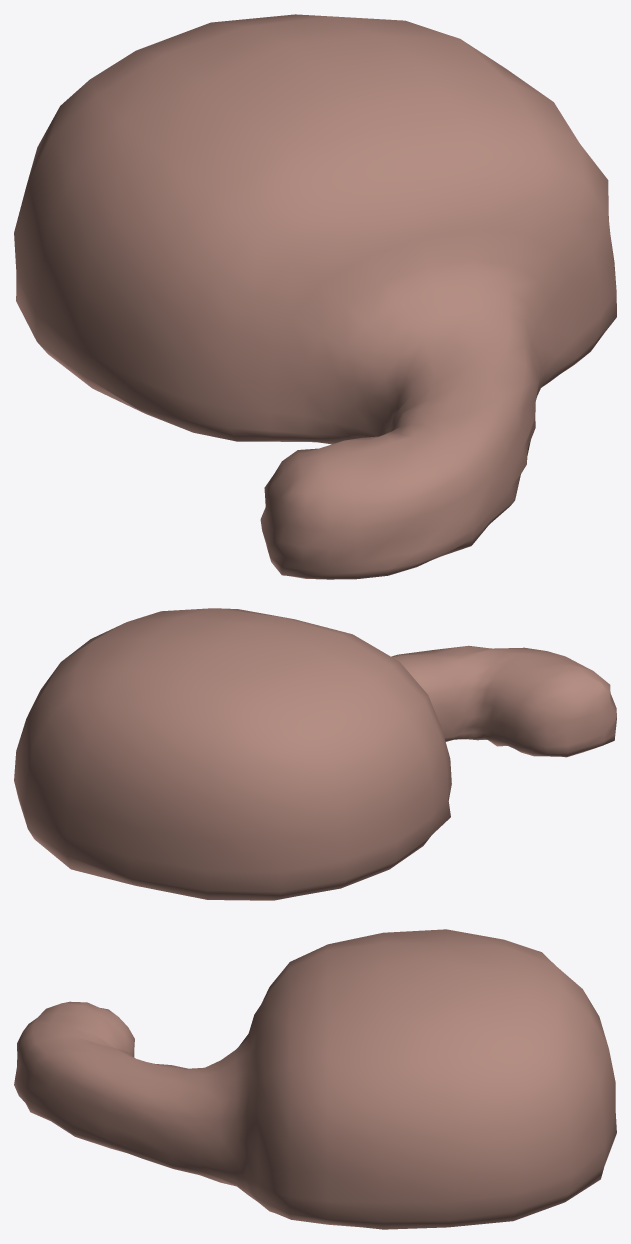
File: Cave.fbx
The picture shows the model from 3 angles, top to bottom: view 1: azimuth 30°, elevation 25°; view 2: azimuth 150°, elevation 25°; view 3: azimuth 270°, elevation 25°; orthographic projection. The views are drawn at different scales.
Parts seen in each view (by area): view 1: Cave; view 2: Cave; view 3: Cave.
Part boxes in pixels (box(x1,y1,x2,y2)): Cave: box(14, 14, 616, 579); Cave: box(14, 608, 616, 900); Cave: box(14, 929, 616, 1229).
Size of the model in its own units: 5516 by 2705 by 7493.
